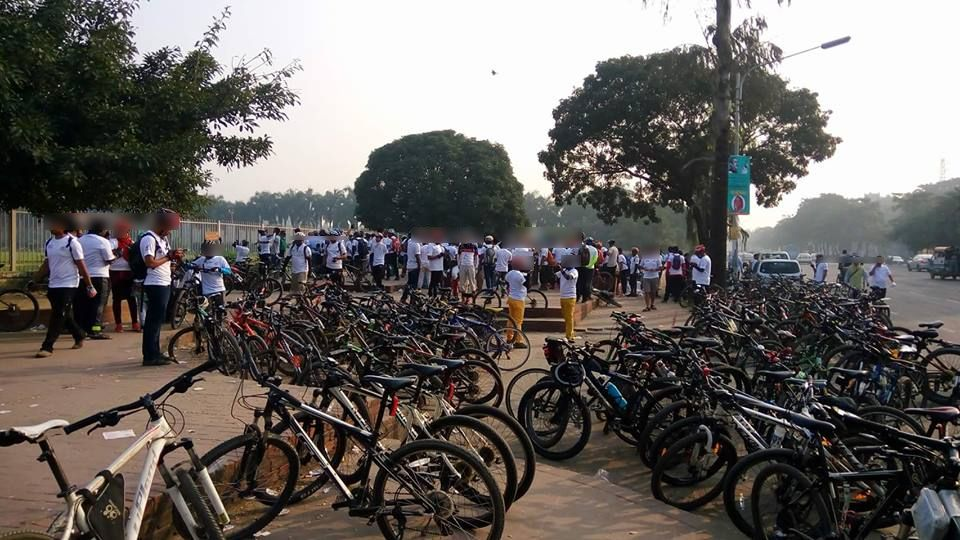bicycle: (202, 356, 511, 539), (6, 359, 237, 539), (727, 380, 955, 539), (644, 354, 834, 504), (525, 313, 691, 472), (819, 306, 957, 408), (169, 277, 255, 373), (471, 272, 548, 320)
